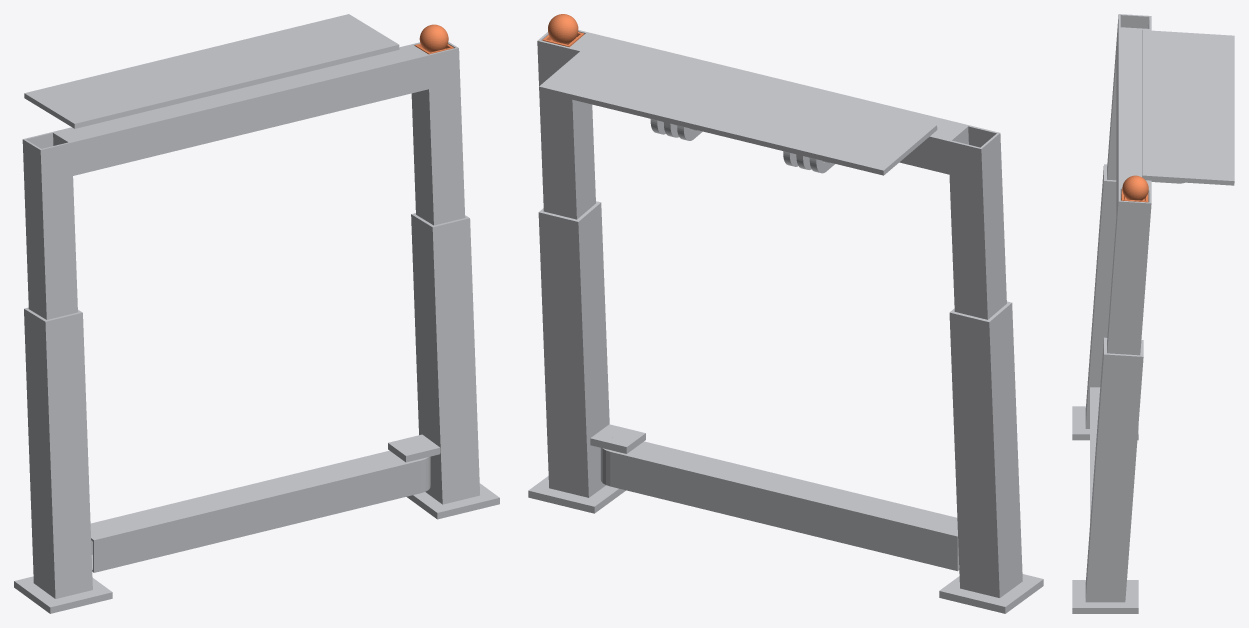
File: center_stand_v5_stowed.glb
3 renders of one model, left to right at view 1: azimuth 30°, elevation 25°; view 2: azimuth 150°, elevation 25°; view 3: azimuth 270°, elevation 25°, orthographic. The views are drawn at different scales.
Parts seen in each view (by area): view 1: frame, handle; view 2: frame, handle; view 3: frame, handle.
Boxes of the visible parts, x1,y1,x2,y2 form: frame: [14, 14, 499, 613]; handle: [414, 24, 453, 54]; frame: [528, 30, 1043, 613]; handle: [542, 14, 584, 47]; frame: [1072, 14, 1234, 613]; handle: [1121, 175, 1148, 202].
Bounding box in the file's own units: 0.4572 × 0.4477 × 0.1557.
